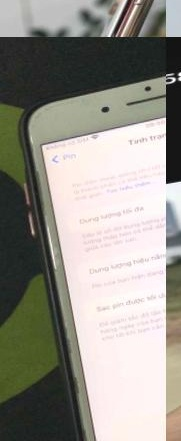scratch: (31, 80, 150, 114), (68, 420, 100, 441), (59, 320, 75, 356), (66, 371, 84, 396)
